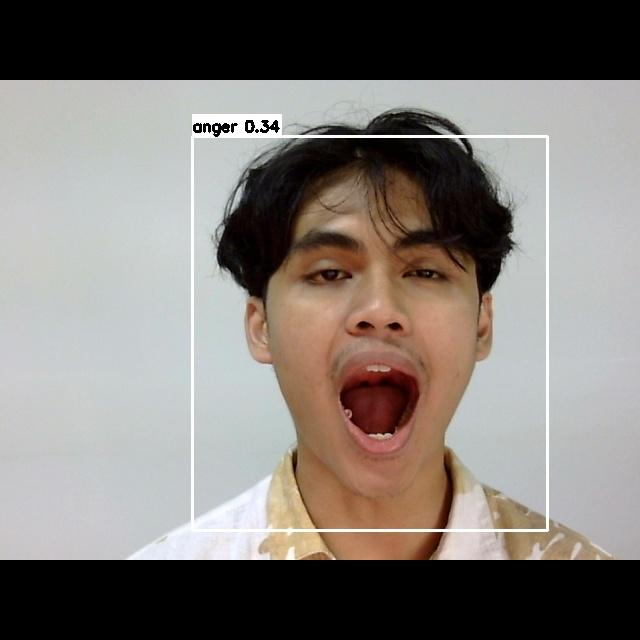Surprised: (268, 198, 504, 494)
